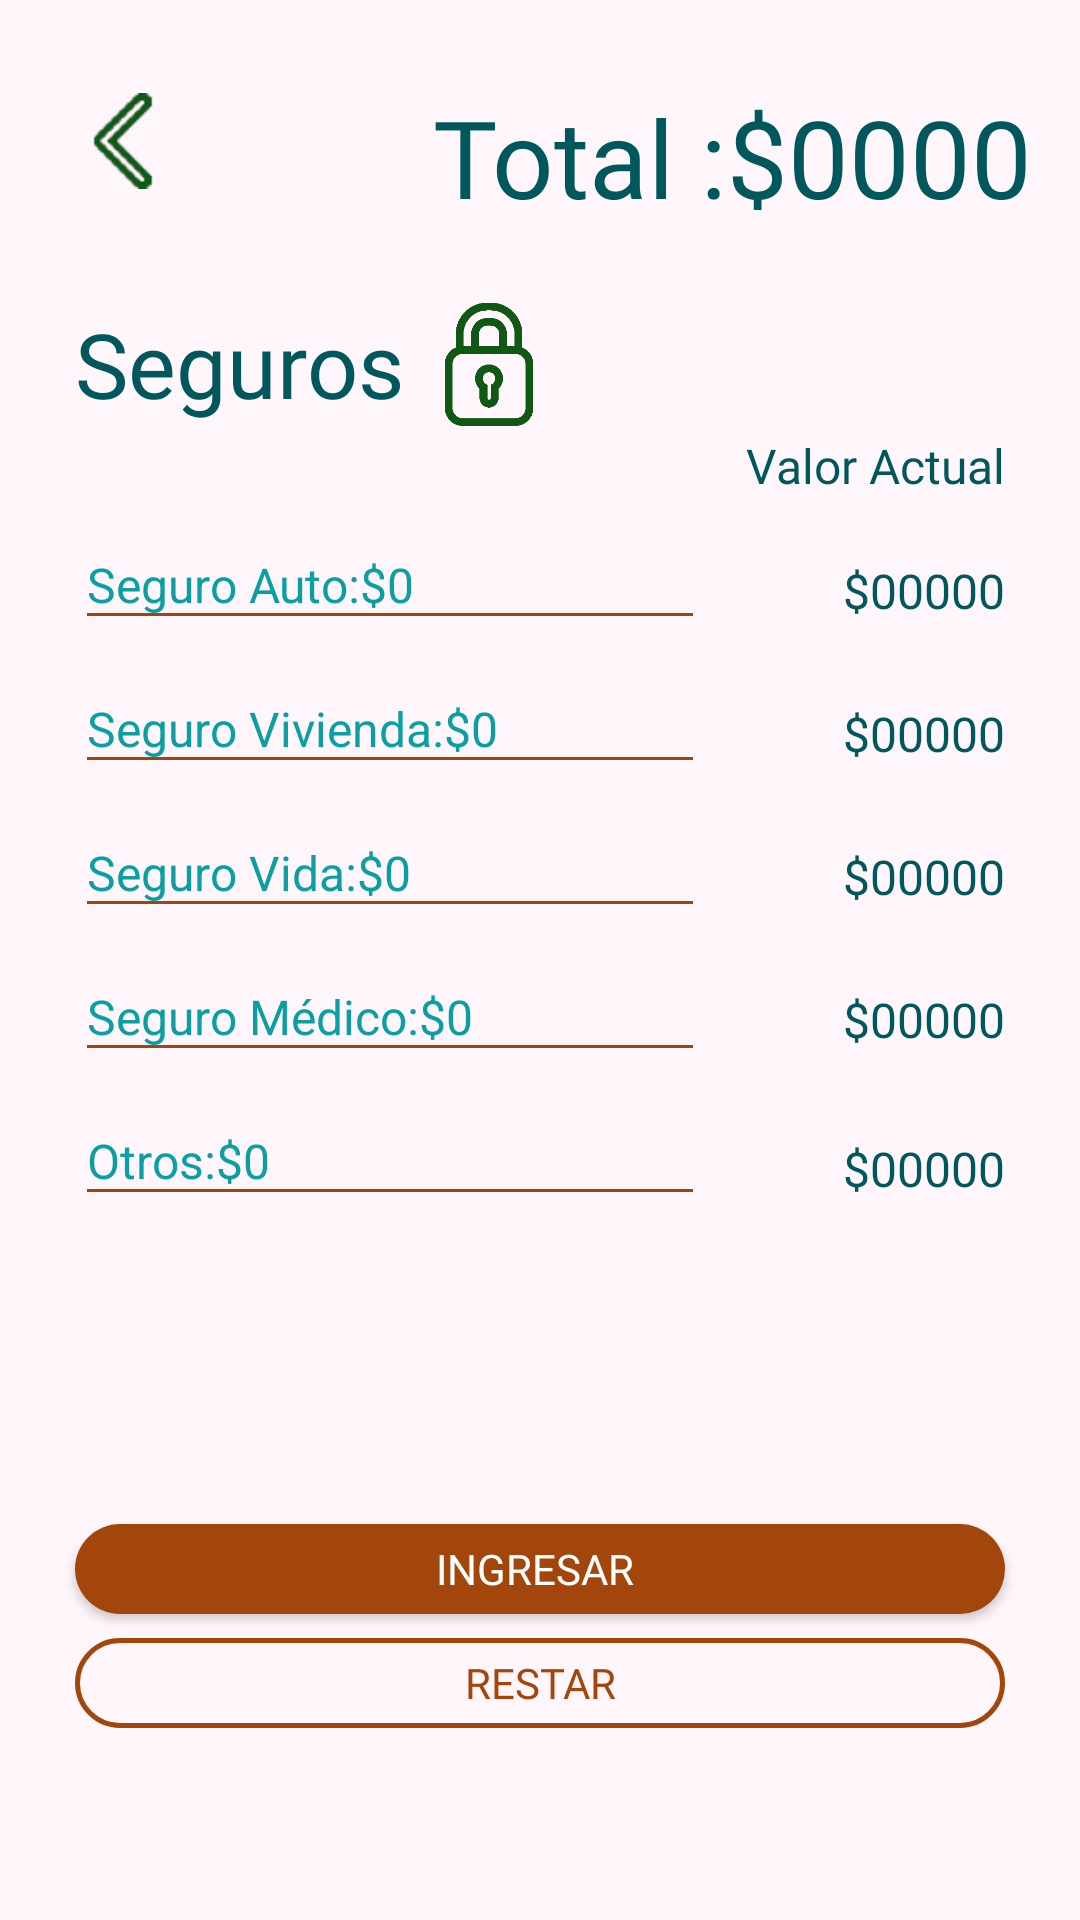

Locate icon controls on the screen. Image size 1080×1920, boxes as (x1, y1, x2, y2).
flecha: (93, 93, 153, 189)
seguropng: (445, 303, 533, 426)
